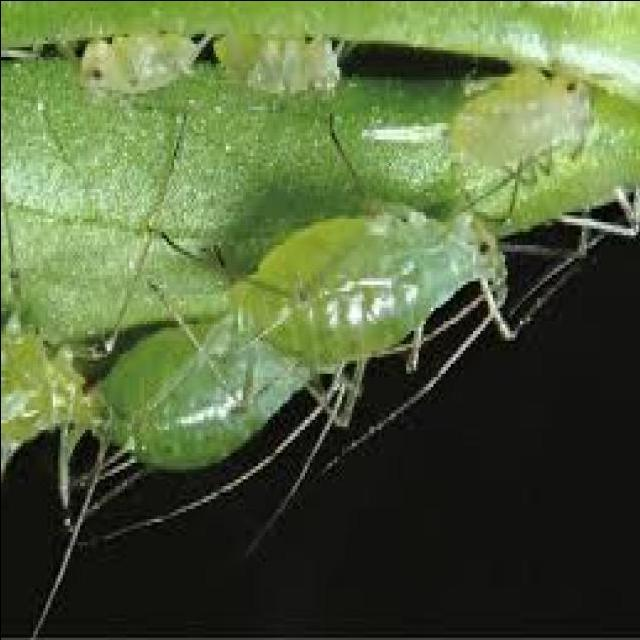aphid: (215, 195, 530, 388), (428, 35, 612, 192)
